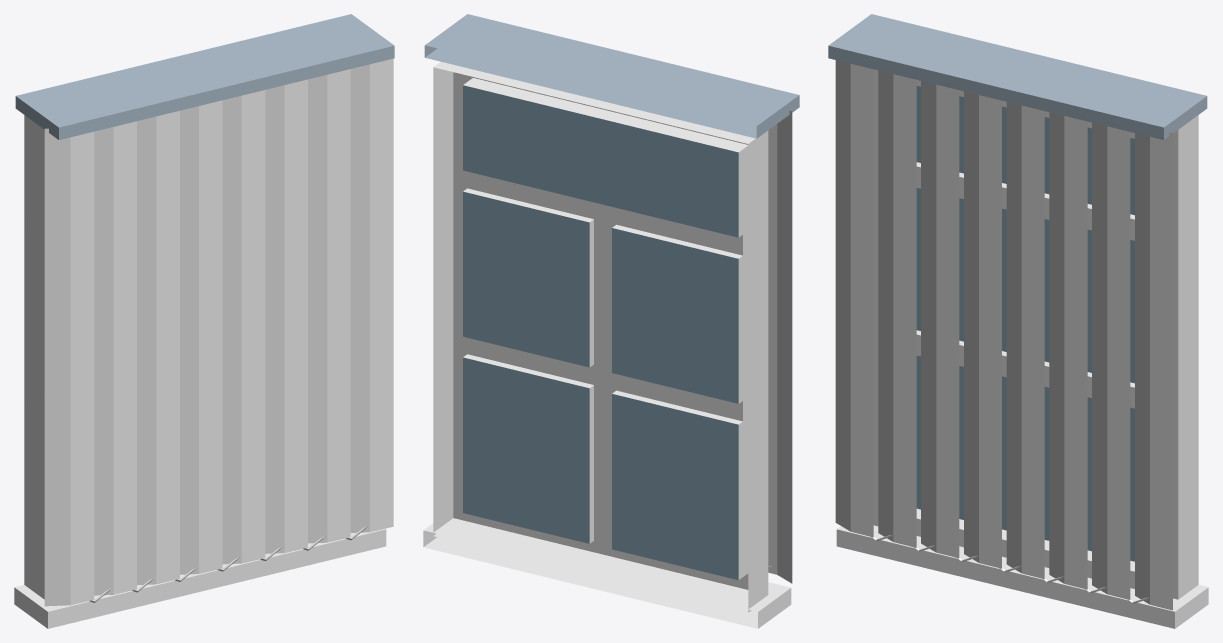
File: window-with-blinds_close 1.fbx
The picture shows the model from 3 angles, left to right: view 1: azimuth 30°, elevation 25°; view 2: azimuth 150°, elevation 25°; view 3: azimuth 330°, elevation 25°; orthographic projection.
Parts seen in each view (by area): view 1: window blind close, window; view 2: window, window blind close; view 3: window blind close, window.
Part boxes in pixels (x1=…): window blind close: x1=15, y1=14, x2=394, y2=606; window: x1=14, y1=115, x2=386, y2=628; window: x1=423, y1=62, x2=791, y2=628; window blind close: x1=424, y1=14, x2=799, y2=583; window blind close: x1=828, y1=14, x2=1207, y2=610; window: x1=836, y1=69, x2=1208, y2=628.
Bounding box in the file's own units: 1.51 × 2.14 × 0.3309.
2 materials, 1 textured.
